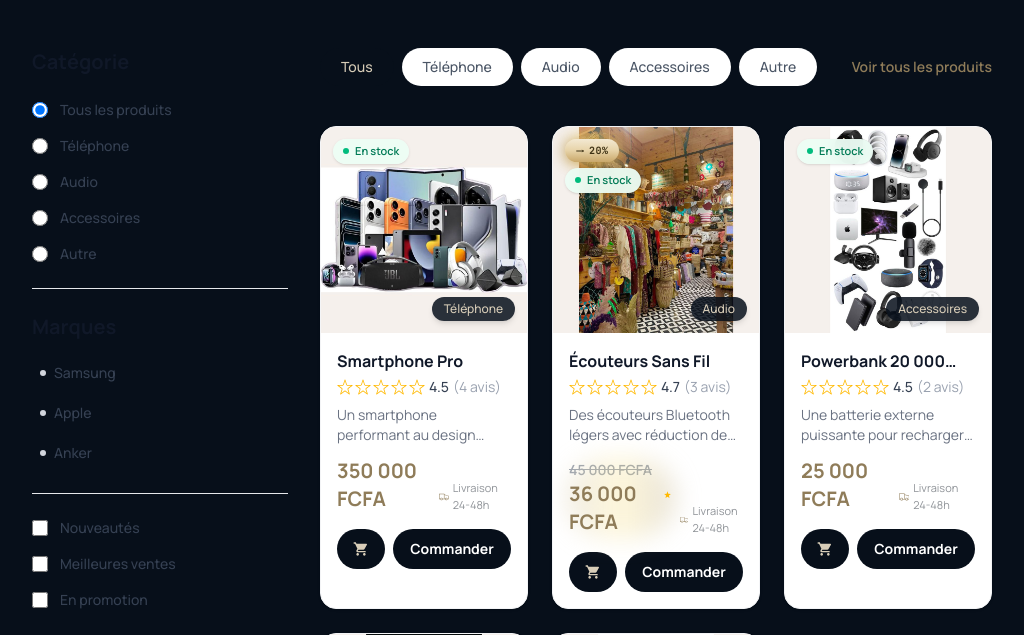
Test: ProductGrid › filtre la grille quand une catégorie est sélectionnée
Click the button "Audio". click: click(561, 67)
box: [521,48,601,86]
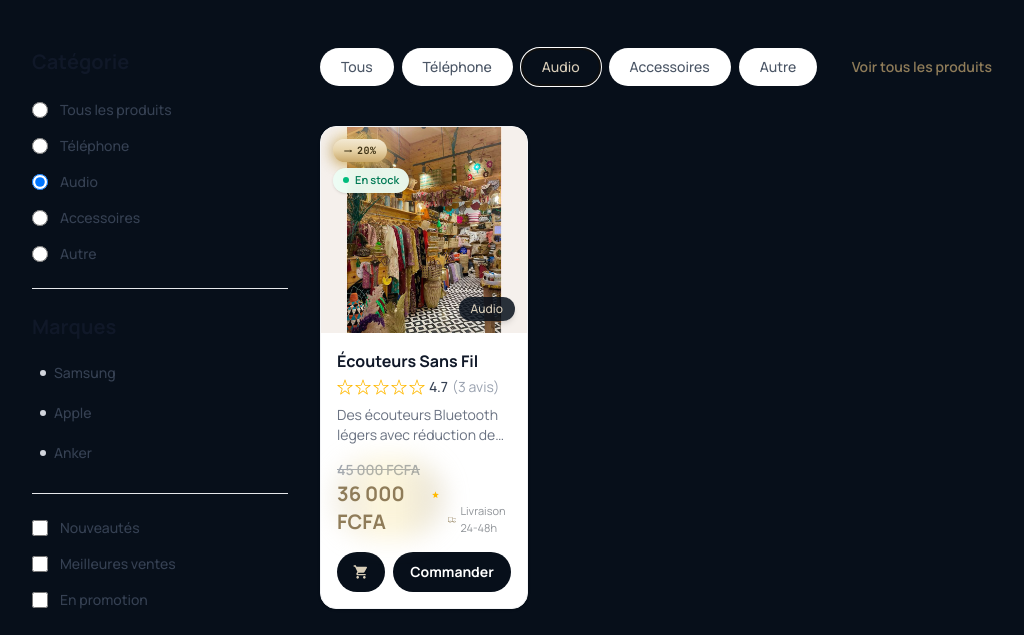
Expected: the heading "Écouteurs Sans Fil" is shown, [337,350,478,372]
Result: the heading "Smartphone Pro" is gone
Result: the heading "Powerbank 20 000 mAh" is gone
